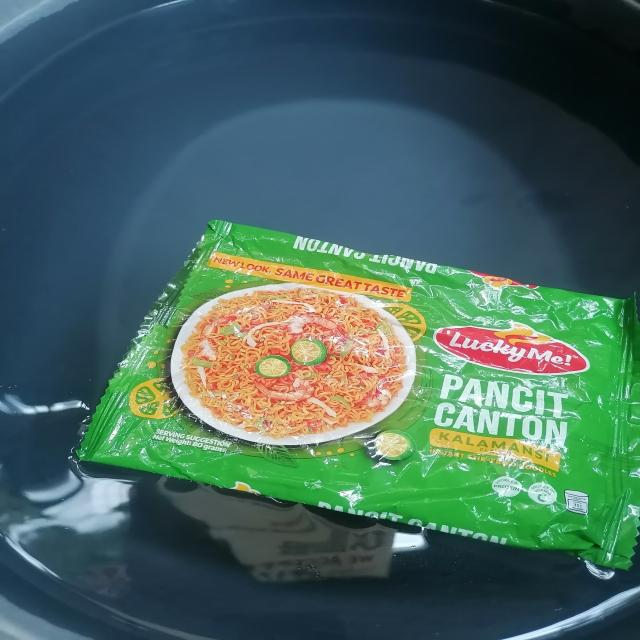Plastic Wrapper: (76, 221, 640, 569)
